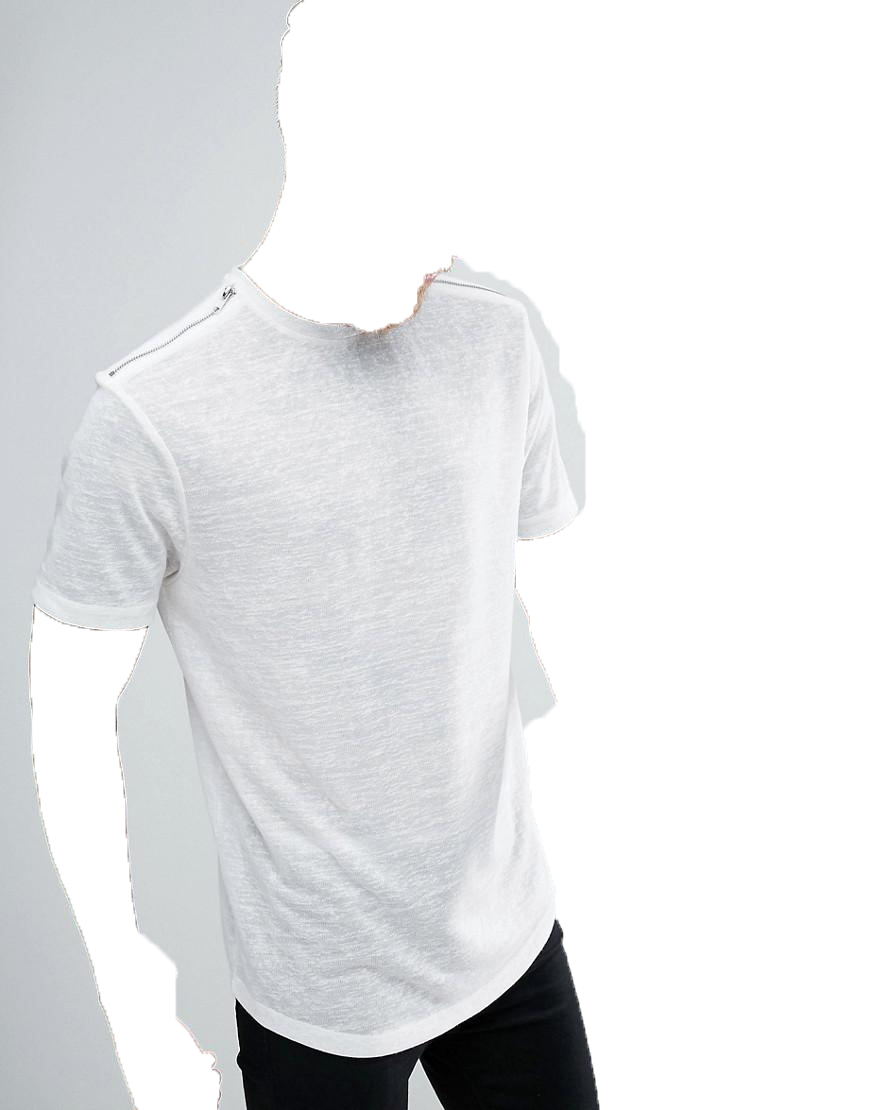teeshirt: (40, 261, 625, 1057)
